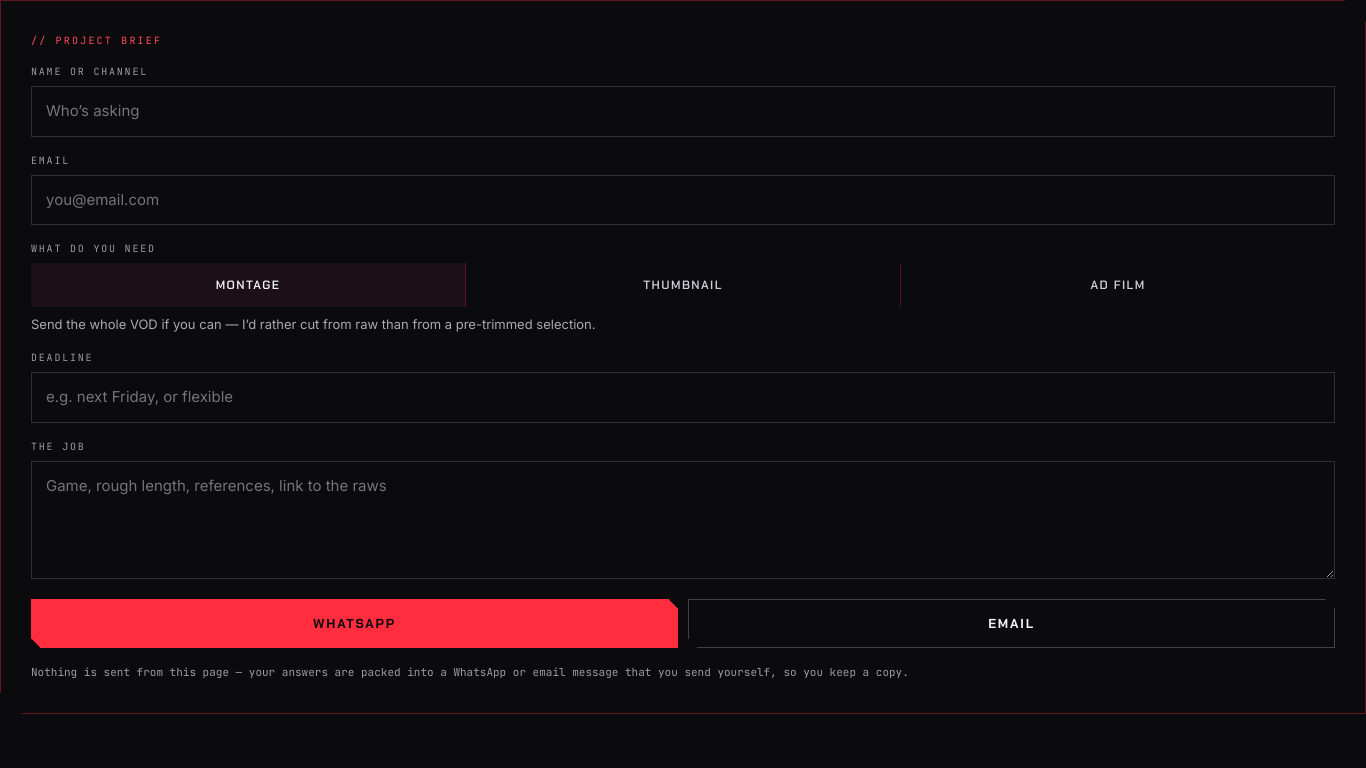
Test: BriefForm › job type picker › defaults to montage and swaps helper copy on selection
This screenshot has width=1366, height=768.
Step 1. Click the button "Ad film" → coordinates (1118, 285), box [901,263,1335,307]
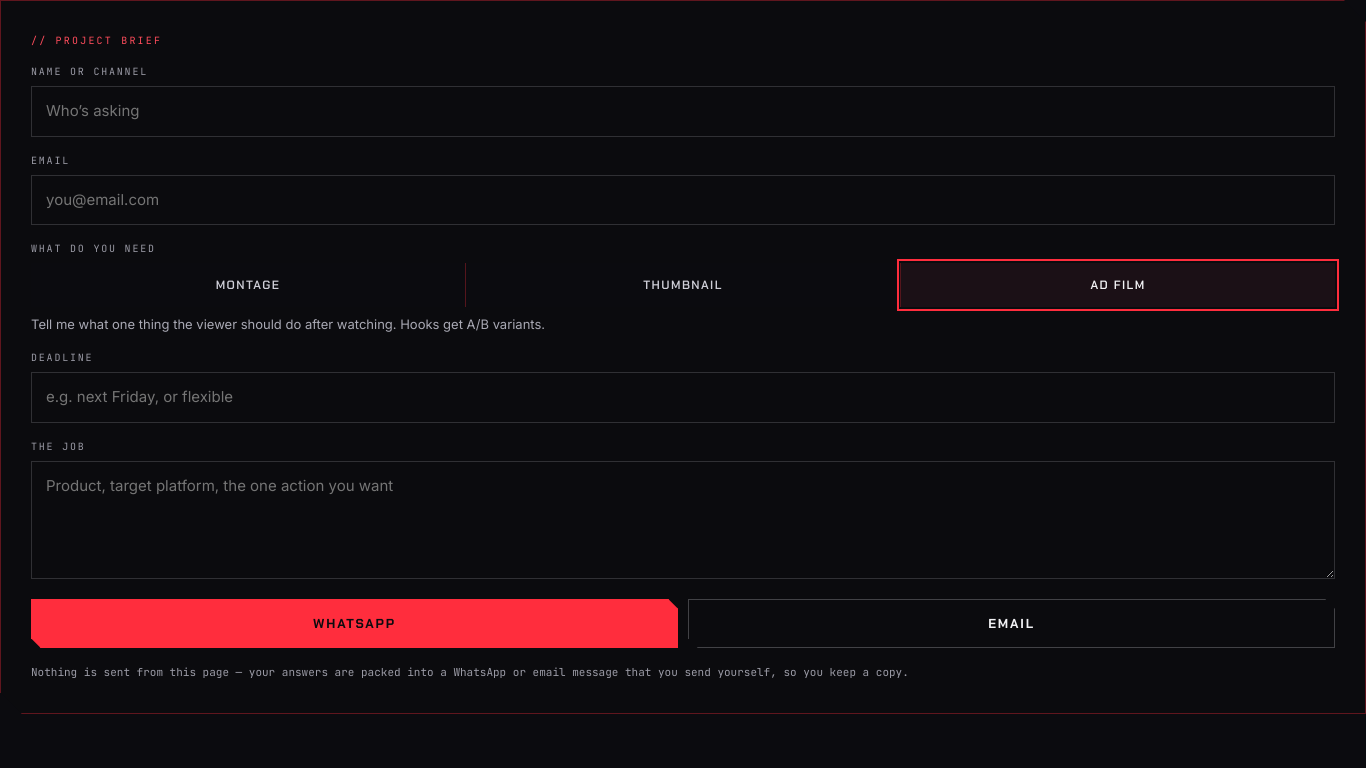
Now the text "one thing the viewer should do" is shown, box [31,316,545,332]
